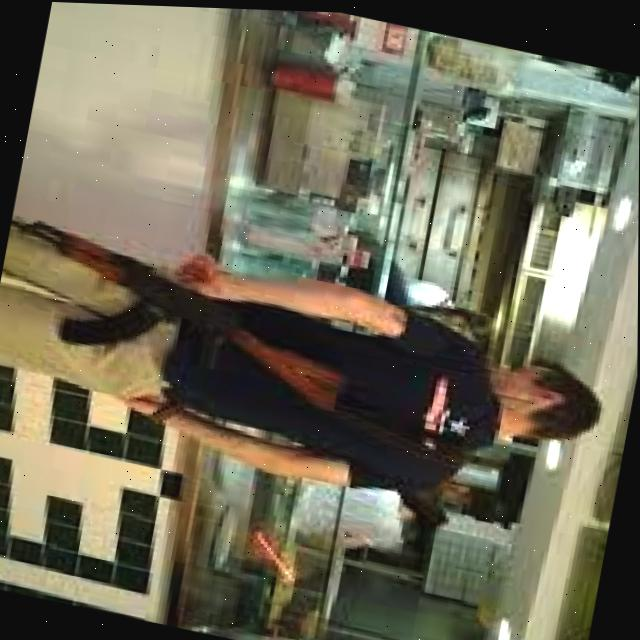firearm: (0, 197, 374, 411)
